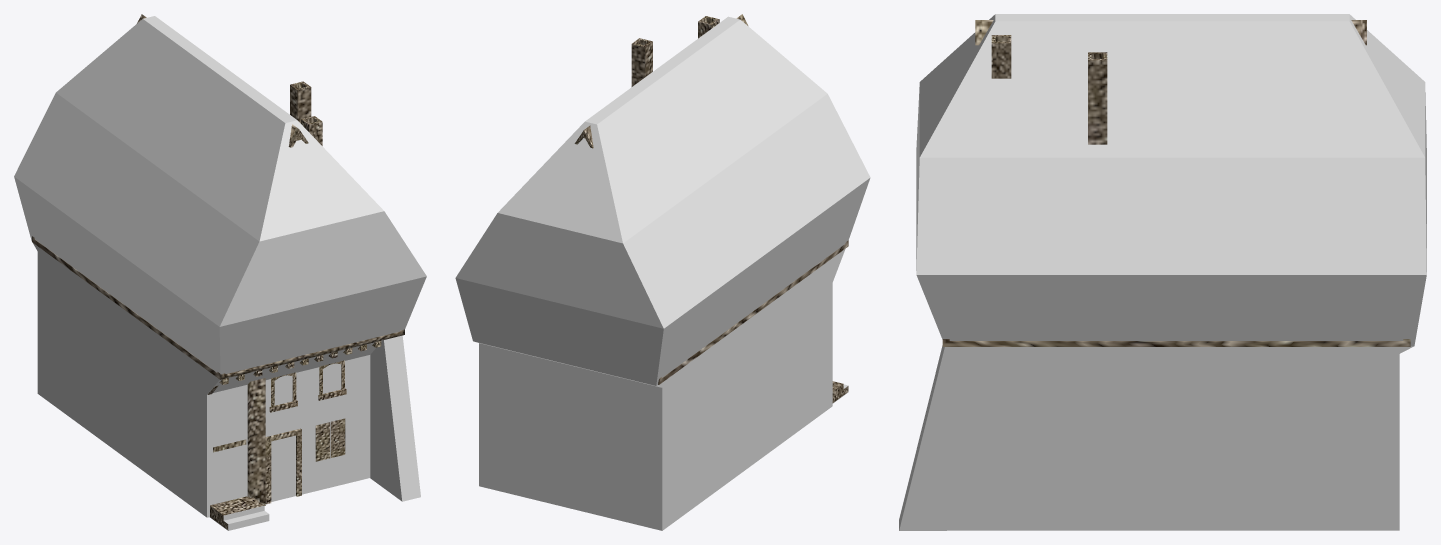
File: mediaeval house.dae
3 views of the same model, side by side, from view 1: azimuth 30°, elevation 25°; view 2: azimuth 150°, elevation 25°; view 3: azimuth 270°, elevation 25° (orthographic). The views are drawn at different scales.
Parts seen in each view (by area): view 1: medium_DH_1_Box, medium_h_1; view 2: medium_DH_1_Box, medium_h_1; view 3: medium_DH_1_Box, medium_h_1.
Boxes of the visible parts, x1,y1,x2,y2 form: medium_DH_1_Box: (14, 16, 426, 530); medium_h_1: (32, 14, 404, 529); medium_DH_1_Box: (455, 16, 870, 530); medium_h_1: (574, 14, 848, 402); medium_DH_1_Box: (899, 14, 1426, 530); medium_h_1: (942, 20, 1410, 346).
Bounding box in the file's own units: 3.84 × 6.83 × 6.54.
1 material, 1 textured.
